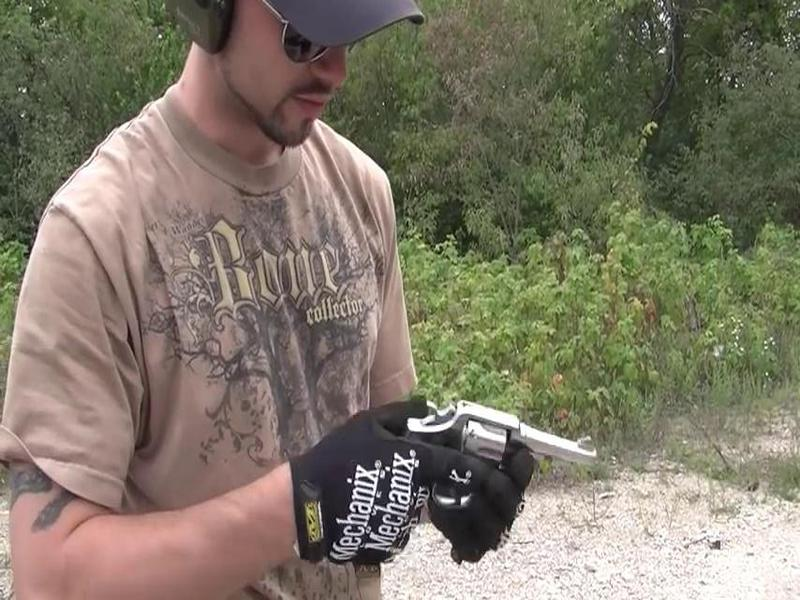Revolver: (379, 390, 600, 505)
